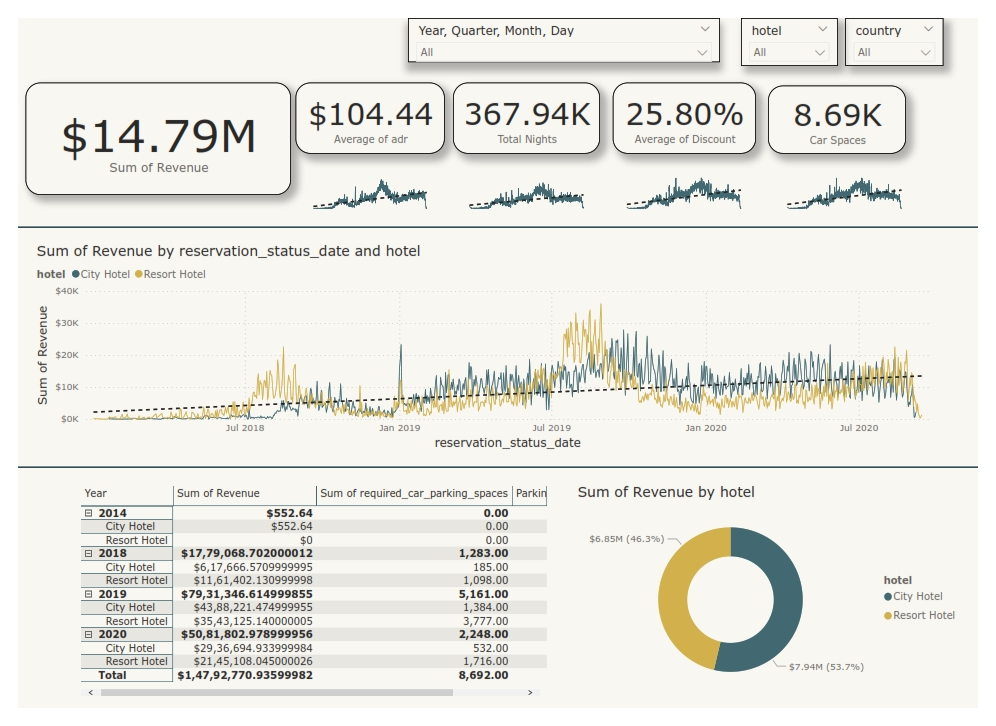

What the dashboard file says about the page in this screenshot:
{"tool":"powerbi","page":{"name":"Page 1","canvas":[1280,920],"ordinal":0},"visuals":[{"type":"shape","box":[0,260,1280,38],"z":0},{"type":"shape","box":[0,580,1280,38],"z":1},{"type":"card","fields":{"Values":["Sum(Query1.Revenue)"]},"box":[10,85.7,354.3,150],"z":2},{"type":"card","fields":{"Values":["Avg(Query1.adr)"]},"box":[370,85.7,198.6,95.7],"z":3},{"type":"card","fields":{"Values":["Query1.Total Nights"]},"box":[580,85.7,195.7,95.7],"z":4},{"type":"card","fields":{"Values":["Avg(Query1.Discount)"]},"box":[792.9,85.7,191.4,95.7],"z":5},{"type":"lineChart","fields":{"Category":["Query1.reservation_status_date"],"Y":["Sum(Query1.Revenue)"],"Series":["Query1.hotel"]},"box":[20,298,1216,282],"z":6},{"type":"slicer","fields":{"Values":["Query1.country"]},"box":[1102.9,0,131.4,64.3],"z":7},{"type":"slicer","fields":{"Values":["Query1.hotel"]},"box":[964.3,0,128.6,64.3],"z":8},{"type":"lineChart","fields":{"Category":["Query1.reservation_status_date"],"Y":["Sum(Query1.adr)"]},"box":[378.6,195.7,181.4,64.3],"z":9},{"type":"lineChart","fields":{"Category":["Query1.reservation_status_date"],"Y":["Query1.Total Nights"]},"box":[587.1,195.7,181.4,64.3],"z":10},{"type":"lineChart","fields":{"Category":["Query1.reservation_status_date"],"Y":["Sum(Query1.Discount)"]},"box":[797.1,195.7,181.4,64.3],"z":11},{"type":"card","fields":{"Values":["Sum(Query1.required_car_parking_spaces)"]},"box":[1000,90,184.3,91.4],"z":12},{"type":"lineChart","fields":{"Category":["Query1.reservation_status_date"],"Y":["Sum(Query1.Discount)"]},"box":[1011.4,195.7,181.4,64.3],"z":13},{"type":"donutChart","fields":{"Category":["Query1.hotel"],"Y":["Sum(Query1.Revenue)"]},"box":[741.4,618.6,522.9,290],"z":14},{"type":"pivotTable","fields":{"Rows":["Query1.reservation_status_date.Variation.Date Hierarchy.Year","Query1.hotel"],"Values":["Sum(Query1.Revenue)","Sum(Query1.required_car_parking_spaces)","Query1.Parking Percentage"]},"box":[78.6,618.6,631.4,290],"z":15},{"type":"slicer","fields":{"Values":["Query1.reservation_status_date.Variation.Date Hierarchy.Year","Query1.reservation_status_date.Variation.Date Hierarchy.Quarter","Query1.reservation_status_date.Variation.Date Hierarchy.Month","Query1.reservation_status_date.Variation.Date Hierarchy.Day"]},"box":[520,0,415.7,58.6],"z":16}]}

Visuals, with their boxes in screenshot pixels (x1, y1, x2, y2), scaled from the page's 1280x920 canvas onto the 996x726 screenshot:
shape: crop(0, 205, 995, 235)
shape: crop(0, 458, 995, 488)
card - Sum(Query1.Revenue): crop(8, 68, 283, 186)
card - Avg(Query1.adr): crop(288, 68, 442, 143)
card - Query1.Total Nights: crop(451, 68, 604, 143)
card - Avg(Query1.Discount): crop(617, 68, 766, 143)
lineChart - Query1.reservation_status_date x Sum(Query1.Revenue): crop(16, 235, 962, 458)
slicer - Query1.country: crop(858, 0, 960, 51)
slicer - Query1.hotel: crop(750, 0, 850, 51)
lineChart - Query1.reservation_status_date x Sum(Query1.adr): crop(295, 154, 436, 205)
lineChart - Query1.reservation_status_date x Query1.Total Nights: crop(457, 154, 598, 205)
lineChart - Query1.reservation_status_date x Sum(Query1.Discount): crop(620, 154, 761, 205)
card - Sum(Query1.required_car_parking_spaces): crop(778, 71, 922, 143)
lineChart - Query1.reservation_status_date x Sum(Query1.Discount): crop(787, 154, 928, 205)
donutChart - Query1.hotel x Sum(Query1.Revenue): crop(577, 488, 984, 717)
pivotTable - Query1.reservation_status_date.Variation.Date Hierarchy.Year x Query1.hotel: crop(61, 488, 552, 717)
slicer - Query1.reservation_status_date.Variation.Date Hierarchy.Year x Query1.reservation_status_date.Variation.Date Hierarchy.Quarter: crop(405, 0, 728, 46)
